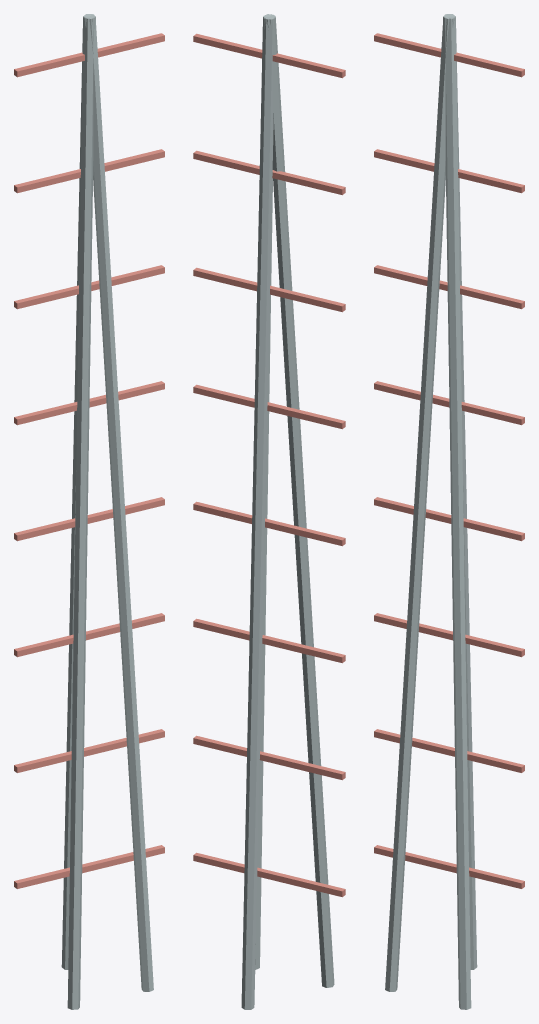
Rendered from radio_mast.glb.
3 renders of one model, left to right at view 1: azimuth 30°, elevation 25°; view 2: azimuth 150°, elevation 25°; view 3: azimuth 330°, elevation 25°, orthographic.
Visible parts, largest first — view 1: radio_mast__pylon, radio_mast__pylon.001, radio_mast__pylon.002, radio_mast__antenna.007, radio_mast__antenna.003, radio_mast__antenna.004, radio_mast__antenna, radio_mast__antenna.005, radio_mast__antenna.001, radio_mast__antenna.002, radio_mast__antenna.006; view 2: radio_mast__pylon.002, radio_mast__pylon, radio_mast__pylon.001, radio_mast__antenna.007, radio_mast__antenna, radio_mast__antenna.002, radio_mast__antenna.004, radio_mast__antenna.005, radio_mast__antenna.001, radio_mast__antenna.003, radio_mast__antenna.006; view 3: radio_mast__pylon.001, radio_mast__pylon, radio_mast__pylon.002, radio_mast__antenna.007, radio_mast__antenna.003, radio_mast__antenna.004, radio_mast__antenna, radio_mast__antenna.005, radio_mast__antenna.001, radio_mast__antenna.002, radio_mast__antenna.006.
Part boxes in pixels (left/top/right/bottom): radio_mast__pylon: left=67, top=16, right=94, bottom=1009; radio_mast__pylon.001: left=84, top=14, right=153, bottom=991; radio_mast__pylon.002: left=61, top=14, right=95, bottom=969; radio_mast__antenna.007: left=14, top=33, right=164, bottom=77; radio_mast__antenna.003: left=14, top=497, right=164, bottom=541; radio_mast__antenna.004: left=14, top=381, right=164, bottom=425; radio_mast__antenna: left=14, top=845, right=164, bottom=888; radio_mast__antenna.005: left=14, top=265, right=164, bottom=309; radio_mast__antenna.001: left=14, top=729, right=164, bottom=772; radio_mast__antenna.002: left=14, top=613, right=164, bottom=657; radio_mast__antenna.006: left=14, top=149, right=164, bottom=193; radio_mast__pylon.002: left=241, top=16, right=275, bottom=1009; radio_mast__pylon: left=263, top=14, right=334, bottom=987; radio_mast__pylon.001: left=255, top=14, right=275, bottom=969; radio_mast__antenna.007: left=193, top=33, right=345, bottom=78; radio_mast__antenna: left=193, top=852, right=345, bottom=897; radio_mast__antenna.002: left=193, top=618, right=345, bottom=663; radio_mast__antenna.004: left=193, top=384, right=345, bottom=429; radio_mast__antenna.005: left=193, top=267, right=345, bottom=312; radio_mast__antenna.001: left=193, top=735, right=345, bottom=780; radio_mast__antenna.003: left=193, top=501, right=345, bottom=546; radio_mast__antenna.006: left=193, top=150, right=345, bottom=195; radio_mast__pylon.001: left=444, top=16, right=471, bottom=1009; radio_mast__pylon: left=385, top=14, right=454, bottom=991; radio_mast__pylon.002: left=443, top=14, right=477, bottom=969; radio_mast__antenna.007: left=374, top=33, right=524, bottom=77; radio_mast__antenna.003: left=374, top=497, right=524, bottom=541; radio_mast__antenna.004: left=374, top=381, right=524, bottom=425; radio_mast__antenna: left=374, top=845, right=524, bottom=888; radio_mast__antenna.005: left=374, top=265, right=524, bottom=309; radio_mast__antenna.001: left=374, top=729, right=524, bottom=772; radio_mast__antenna.002: left=374, top=613, right=524, bottom=657; radio_mast__antenna.006: left=374, top=149, right=524, bottom=193.
Bounding box in the file's own units: 4 × 25.02 × 2.29.
